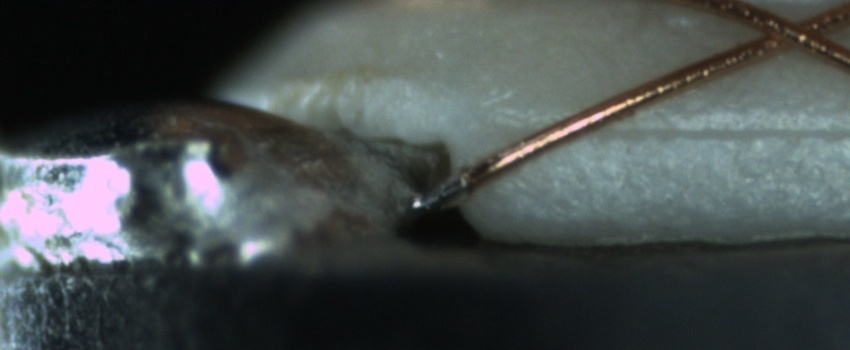CL: (740, 1, 841, 59)
DL: (572, 100, 850, 164)
TS: (419, 172, 468, 212)
